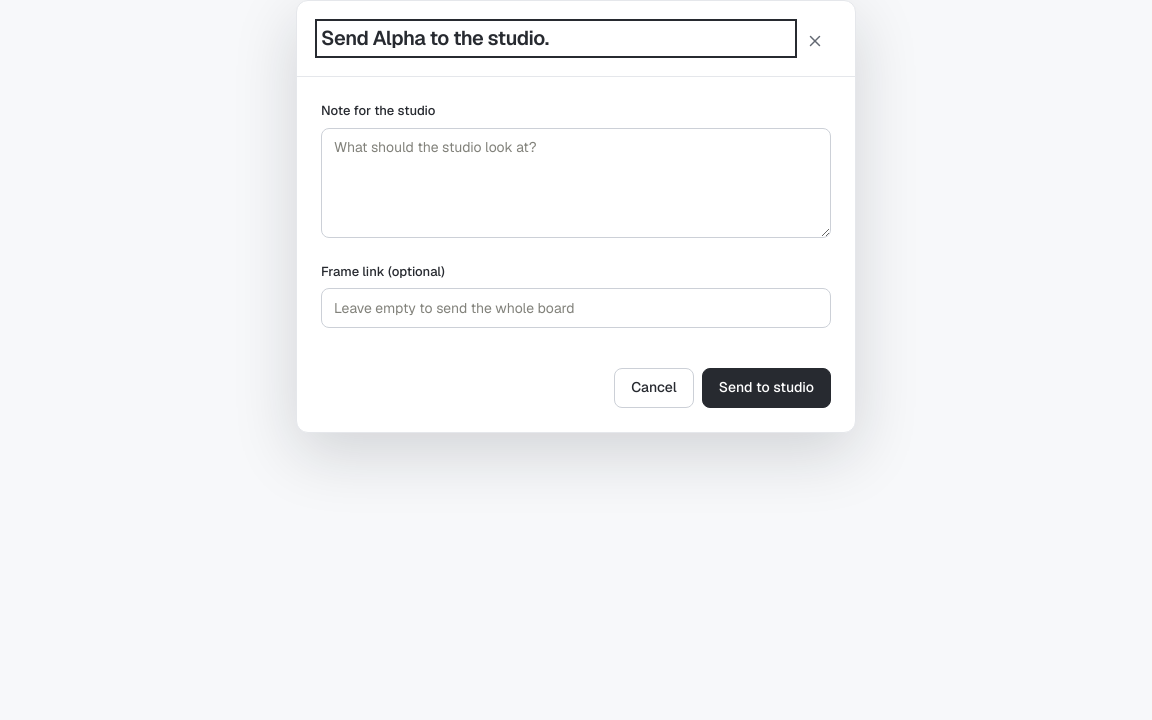
Test: round dialog › shows a plain message and refreshes the boards once the board is no longer the designer's
Type "Ready" into the text box labelled "Note for the studio" at (576, 182), box [321,128,831,238]
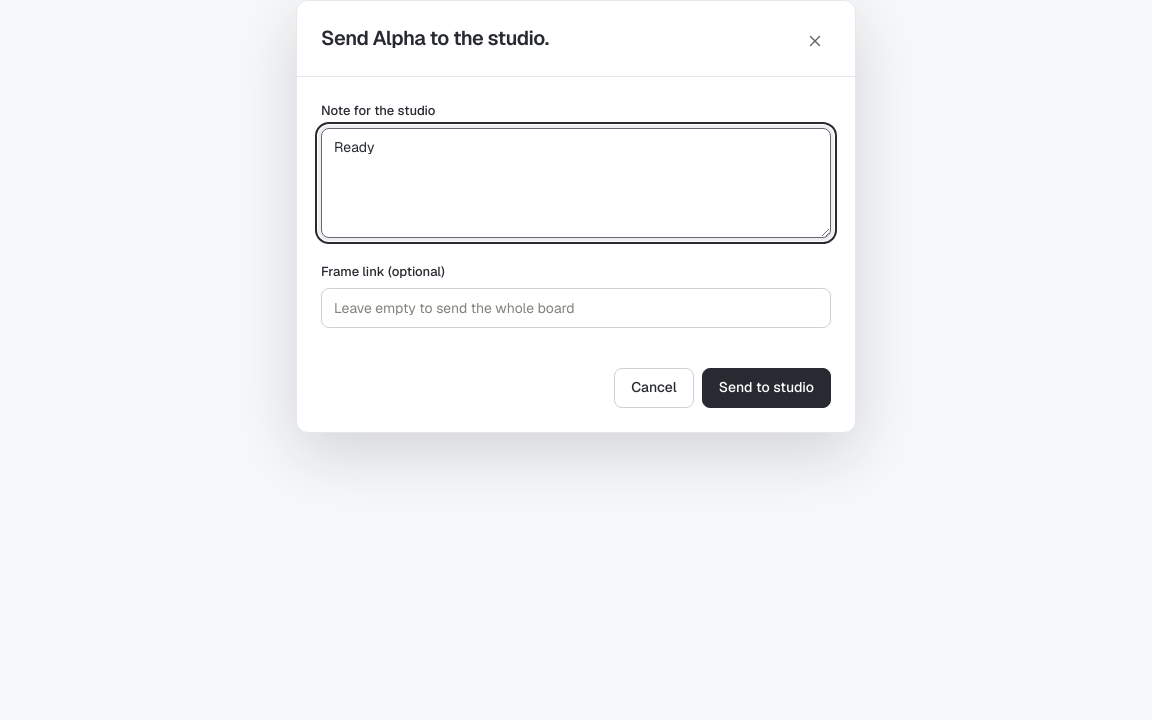
Click the button "Send to studio" at (766, 388), box [702,368,831,408]
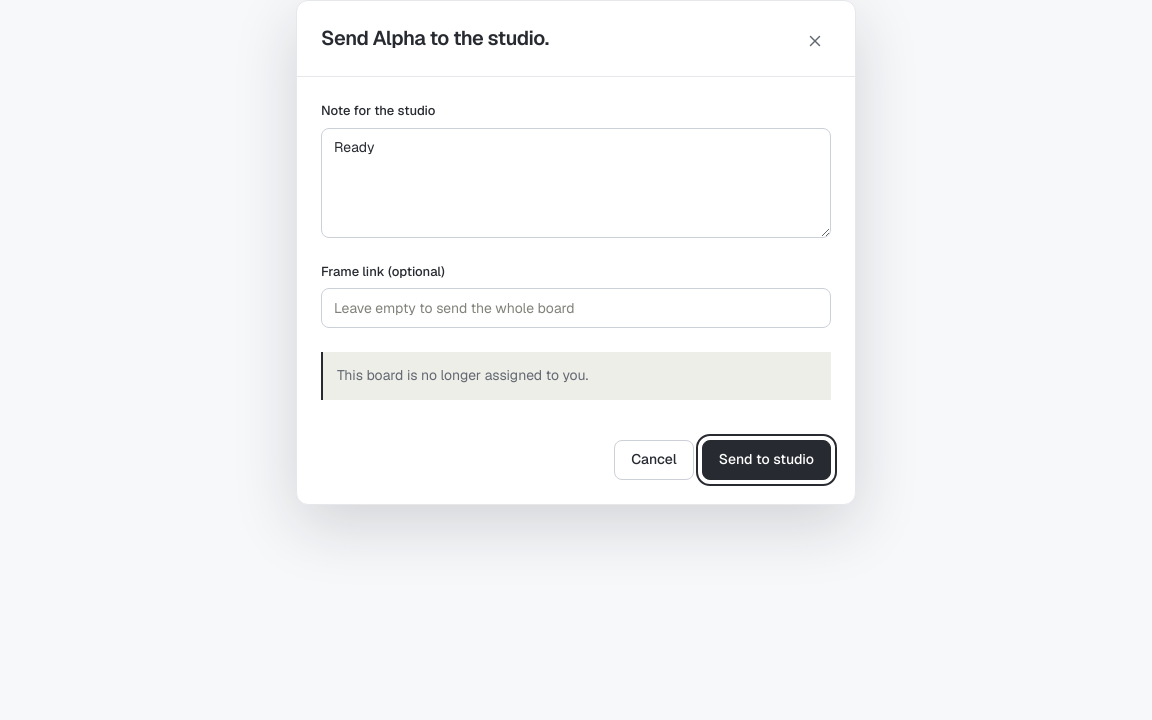
Expected: the text "This board is no longer assigned to you." is shown, [321,352,831,400]
